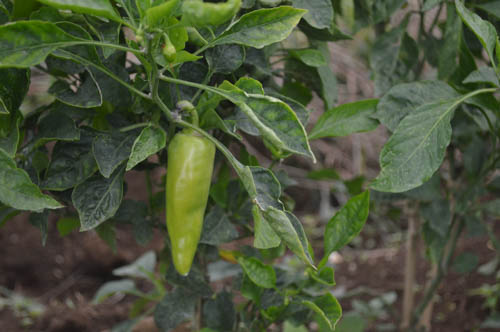ChiliPepper: (165, 134, 214, 275)
